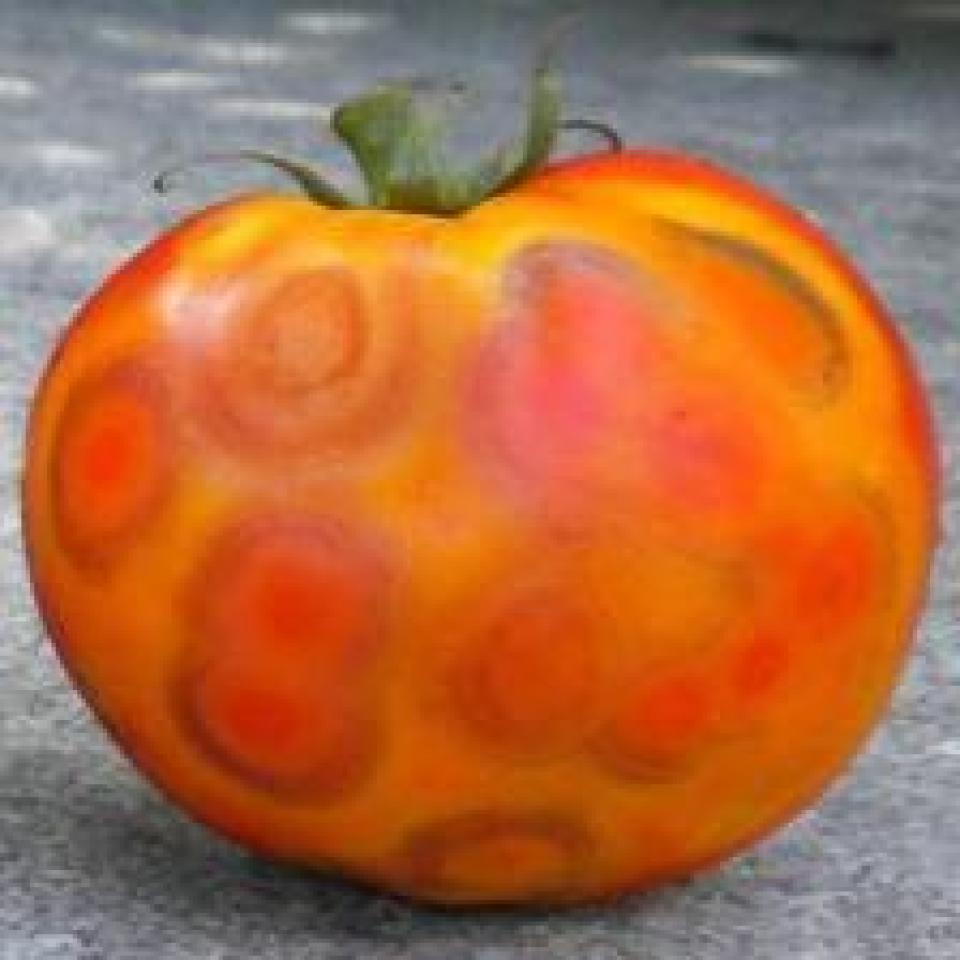Spotted wilt Virus: (19, 147, 943, 906)
